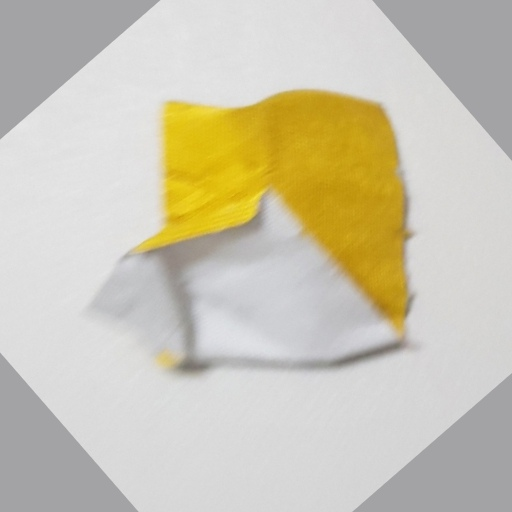Paper_3: (101, 90, 433, 382)
